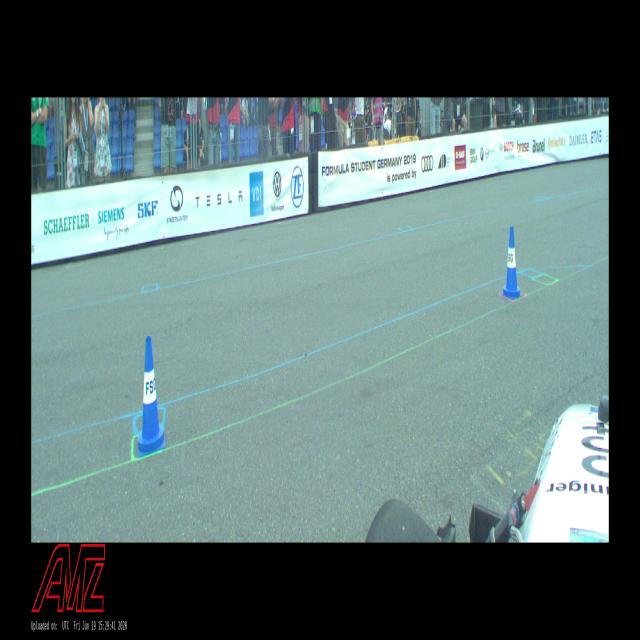blue_cone: (138, 337, 166, 456), (500, 226, 522, 299)
